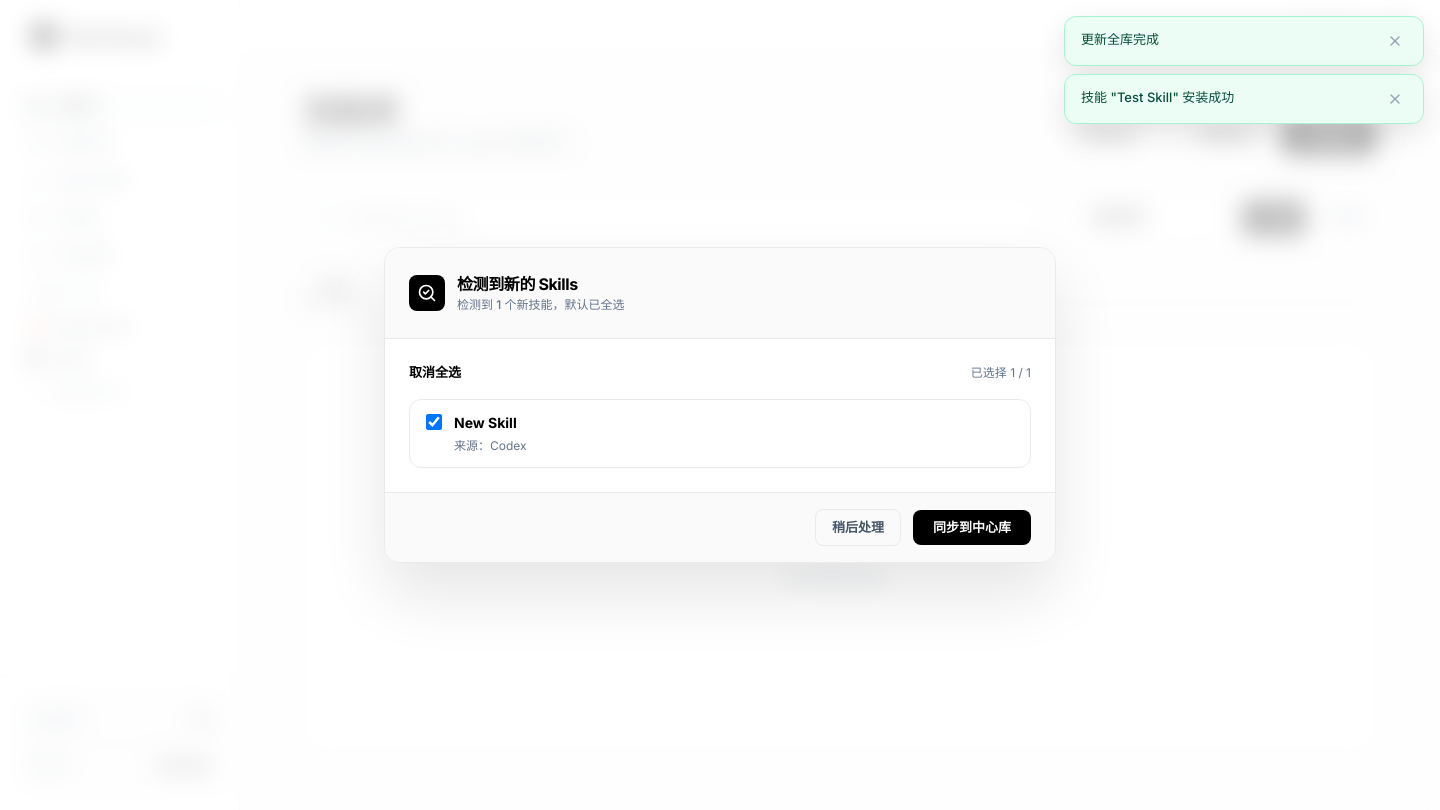
Test case: App › shows startup detect modal and syncs checked skills after confirm
expect the heading "检测到新的 Skills" is shown: met, box top-left (457, 274), bottom-right (578, 294)
expect the checkbox labelled "New Skill 来源：Codex" is checked: met, box top-left (426, 414), bottom-right (442, 430)
What coordinates should you click on to do the following:
click the button "同步到中心库"
I would click on:
 (972, 527)
Its box is top-left (913, 510), bottom-right (1031, 545).
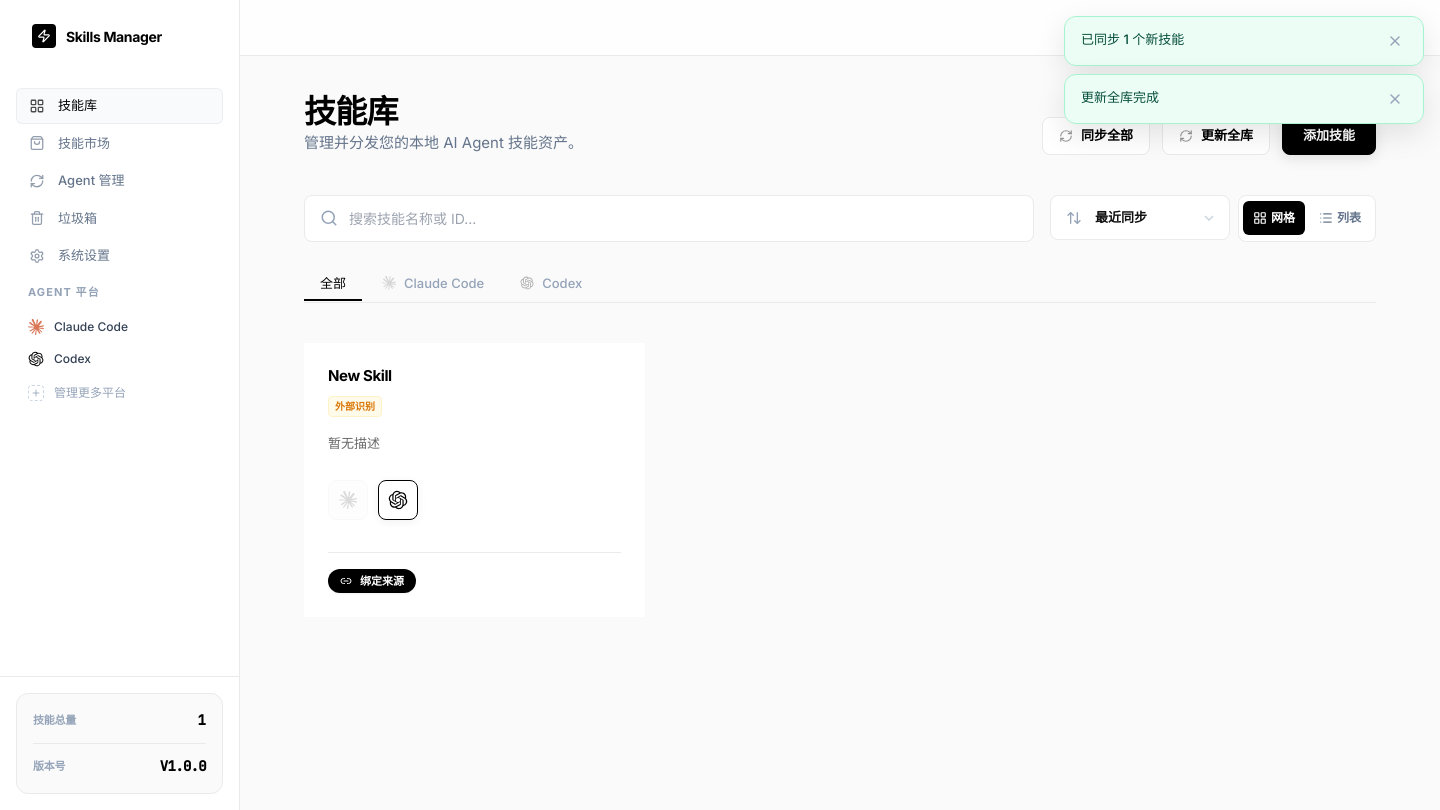
expect the heading "检测到新的 Skills" is gone: met
